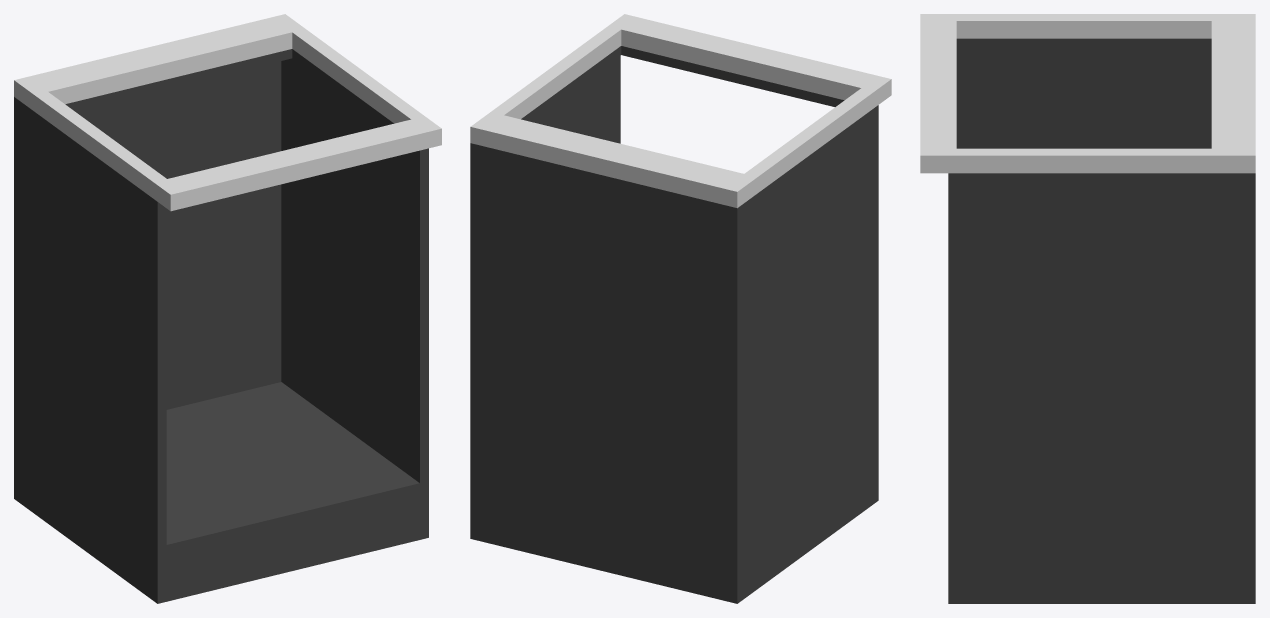
File: Kitchen1_C3_05.fbx
3 views of the same model, side by side, from view 1: azimuth 30°, elevation 25°; view 2: azimuth 150°, elevation 25°; view 3: azimuth 270°, elevation 25° (orthographic). The views are drawn at different scales.
Parts seen in each view (by area): view 1: Kitchen1_C3_05; view 2: Kitchen1_C3_05; view 3: Kitchen1_C3_05.
Part boxes in pixels (x1,y1,x2,y2): Kitchen1_C3_05: (14,14,441,603); Kitchen1_C3_05: (470,14,891,603); Kitchen1_C3_05: (920,14,1255,603).
Bounding box in the file's own units: 60 × 88.5 × 60.
